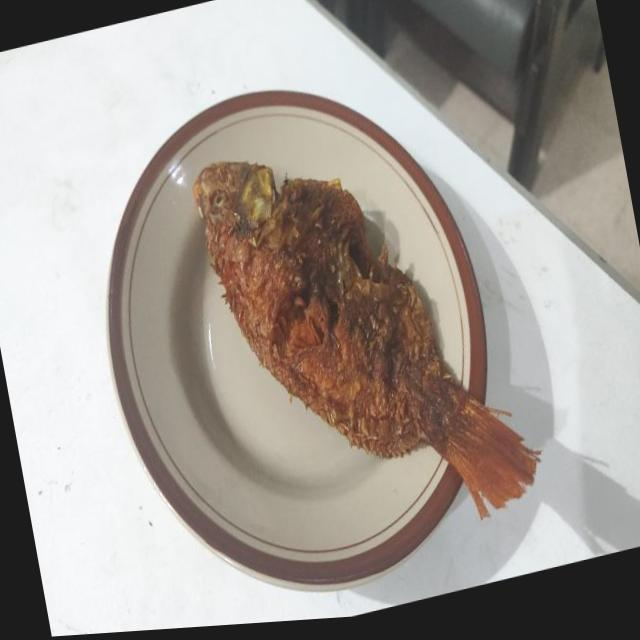ikan_mujair: (193, 161, 540, 518)
